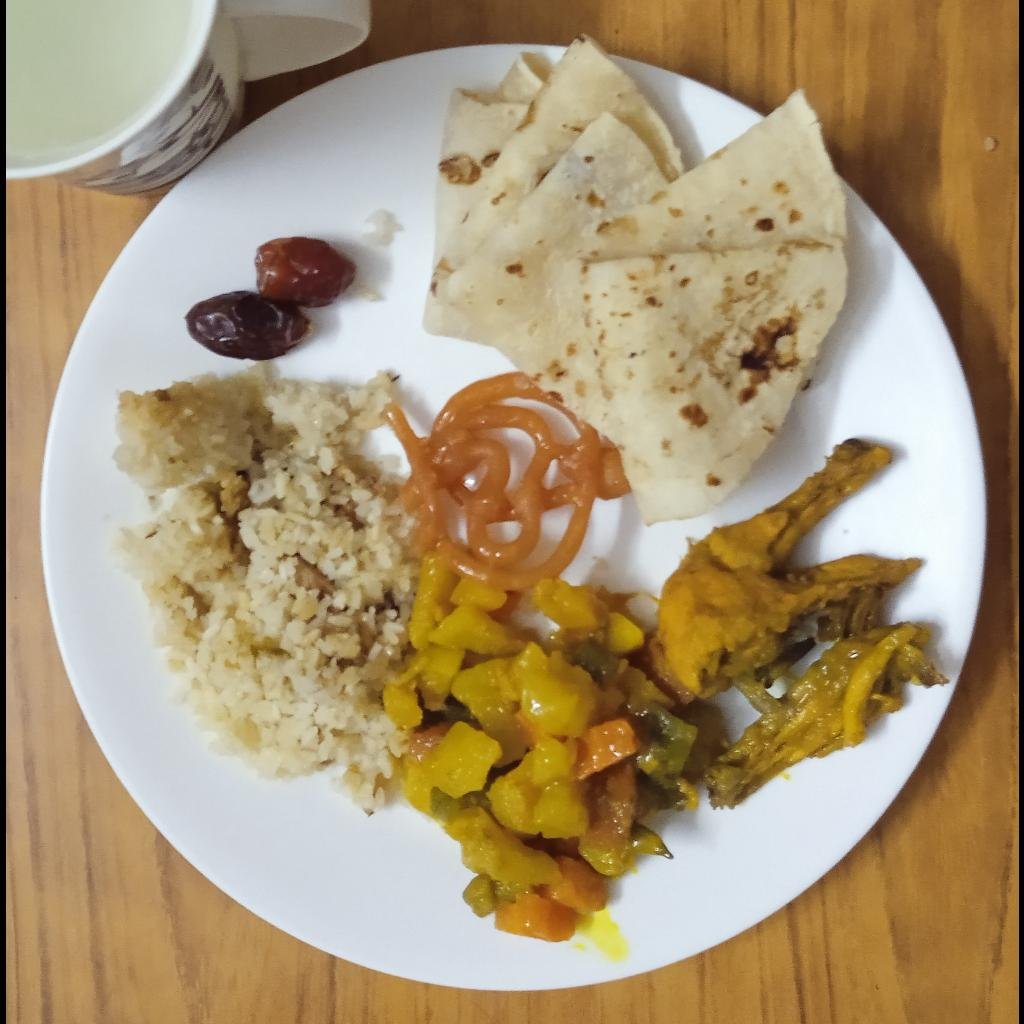chicken: (661, 435, 950, 809)
dates: (181, 236, 354, 361)
jilapi: (385, 372, 631, 591)
rice: (110, 369, 407, 818)
ruti: (420, 36, 847, 526)
vegetable: (383, 557, 699, 944)
